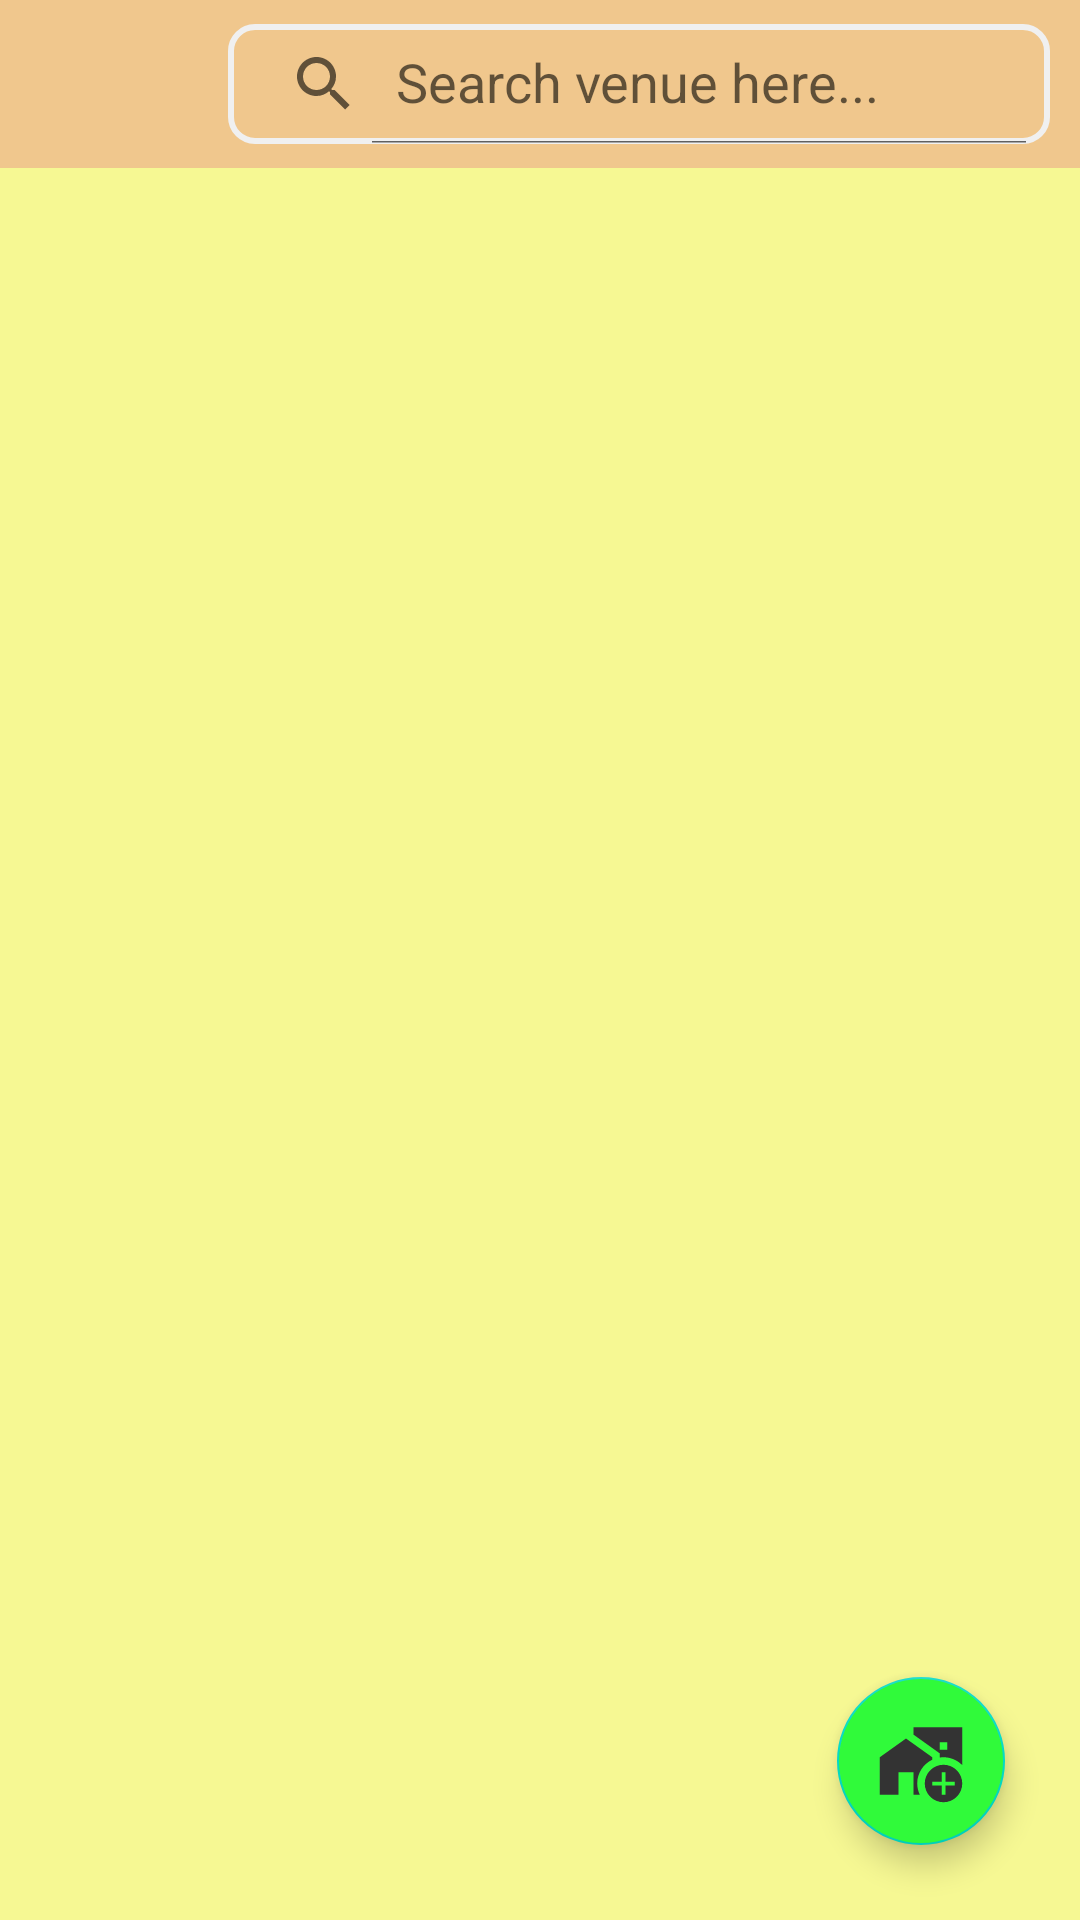

Locate icon controls on the screen. Image size 1080*1920, boxes as (x1, y1, x2, y2).
add home work: (837, 1677, 1005, 1845)
